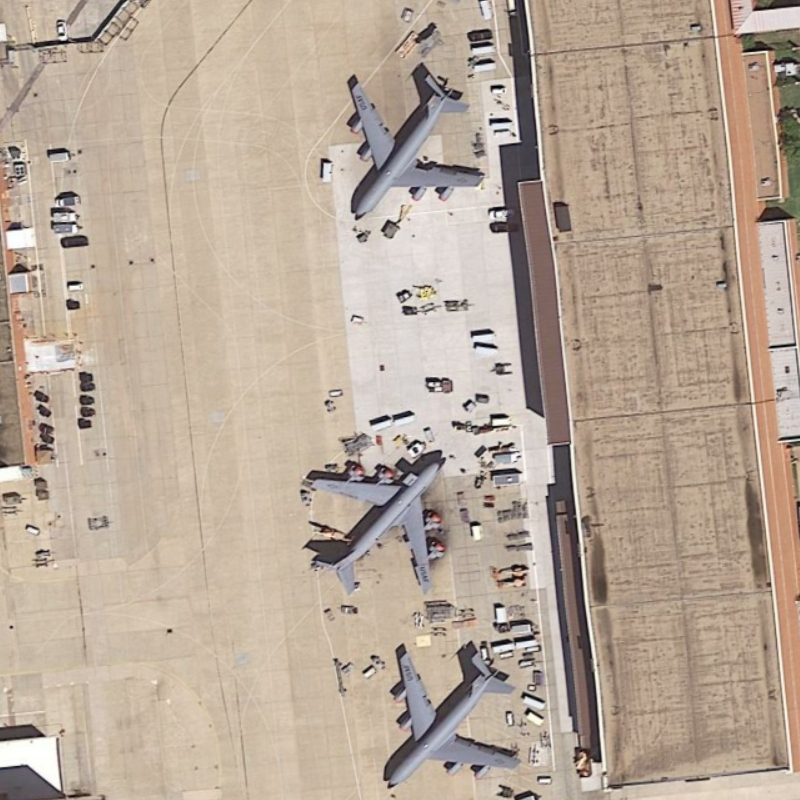A14: (291, 443, 456, 609), (339, 66, 493, 230), (374, 644, 526, 792)
